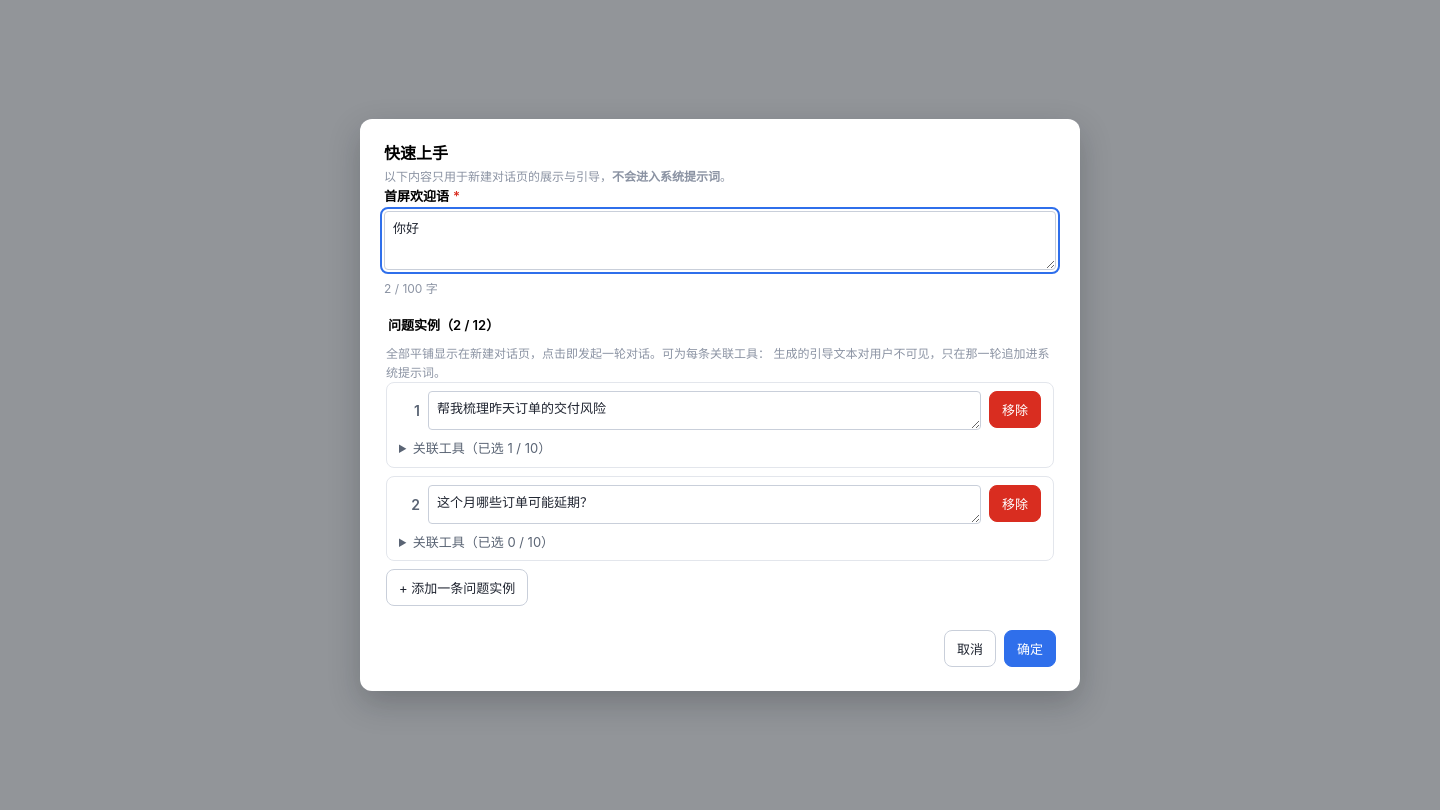
QuickStartDialog —— 问题实例条目的紧凑布局 › 移除按索引：删掉第 1 条后只剩第 2 条
Click the button with test id "quick-start-remove-0": (1015, 410) [989,391,1041,428]
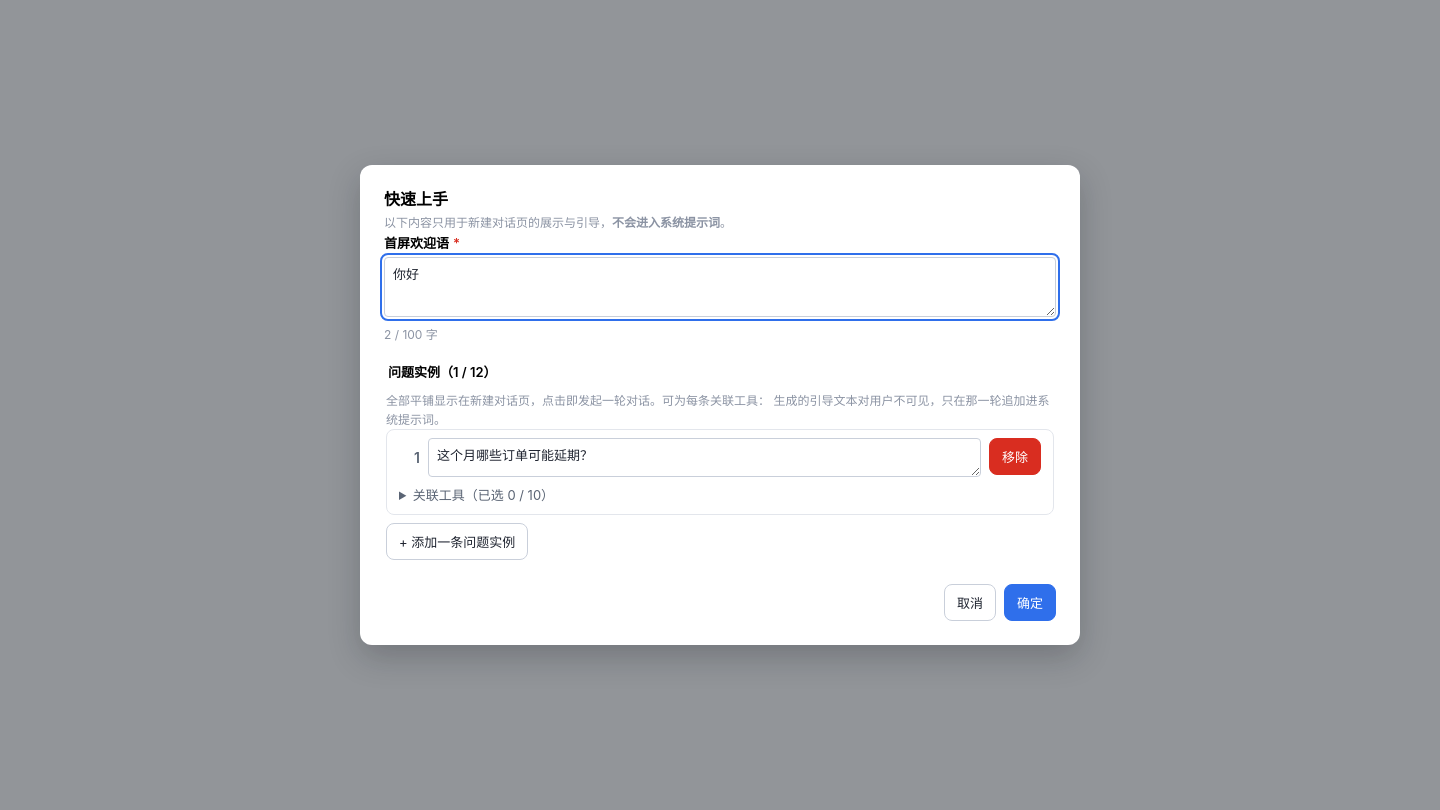
Result: the text box named "第 1 条问题内容" holds "这个月哪些订单可能延期？" at [428,438,981,477]
